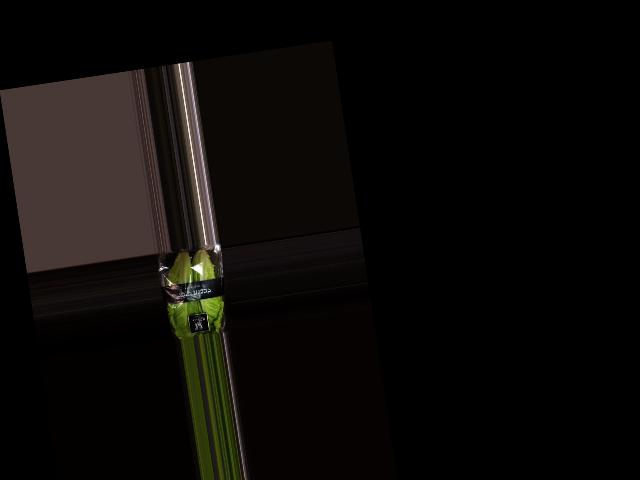lettuce: (160, 242, 233, 339)
